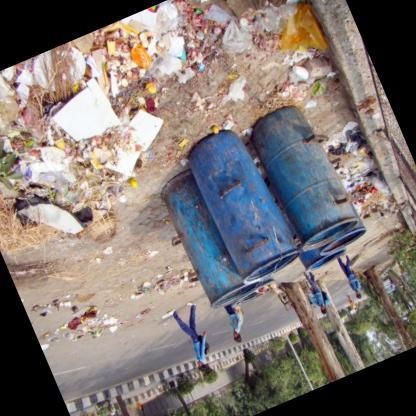Garbage: (0, 0, 238, 190), (193, 0, 327, 88), (320, 108, 398, 226), (24, 274, 124, 366), (122, 256, 192, 312)
